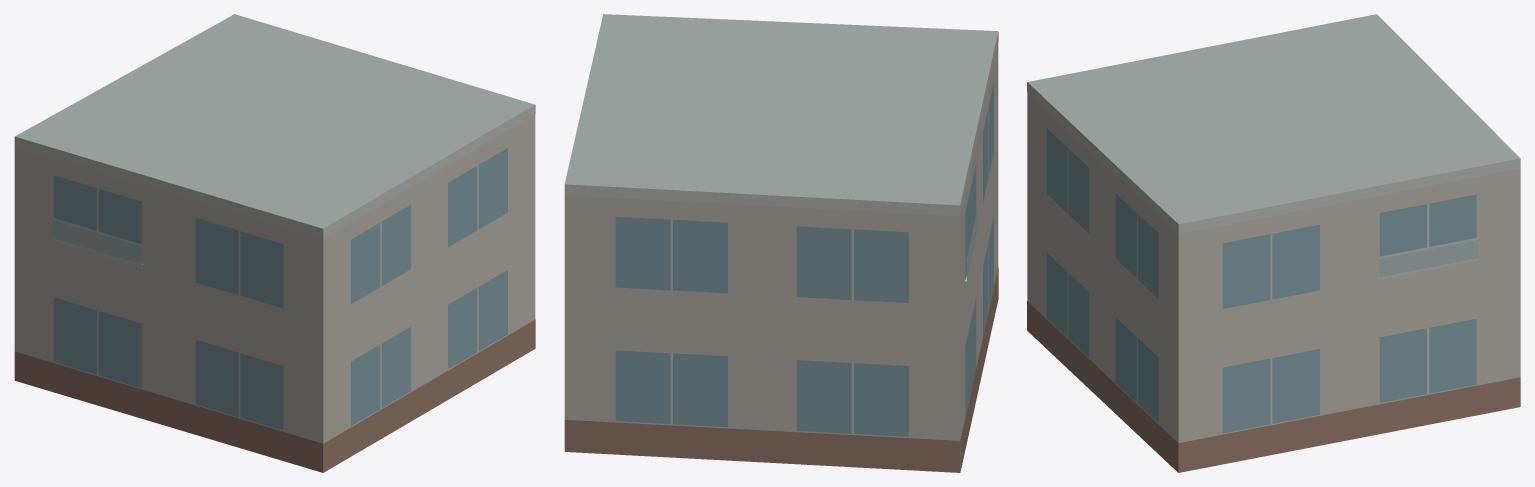
Rendered from survey-upis-32825997.glb.
3 views of the same model, side by side, from view 1: azimuth 30°, elevation 25°; view 2: azimuth 150°, elevation 25°; view 3: azimuth 270°, elevation 25° (orthographic). The views are drawn at different scales.
Visible parts, largest first — view 1: survey-upis-32825997.tmp; view 2: survey-upis-32825997.tmp; view 3: survey-upis-32825997.tmp.
Boxes of the visible parts, left/top/right/bottom form: survey-upis-32825997.tmp: left=14, top=14, right=535, bottom=472; survey-upis-32825997.tmp: left=564, top=14, right=998, bottom=472; survey-upis-32825997.tmp: left=1027, top=14, right=1520, bottom=472.
Size of the model in its own units: 11.08 by 6.1 by 10.98.
